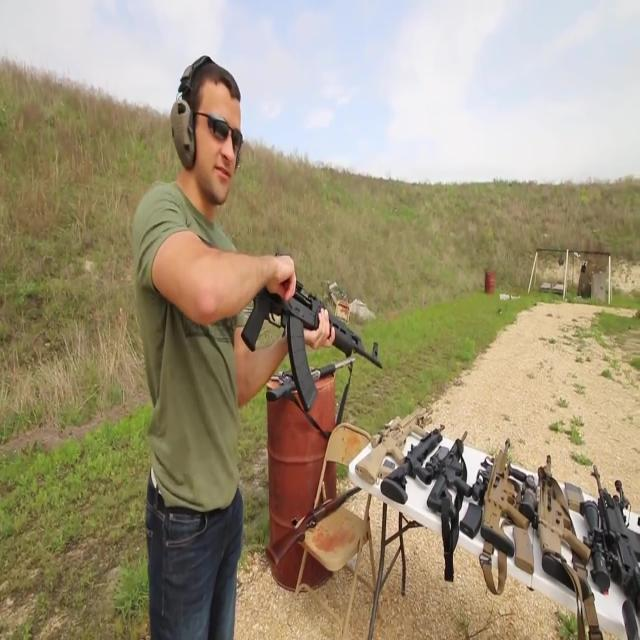Weapon: (359, 386, 640, 640), (170, 225, 396, 423), (247, 431, 372, 570)
